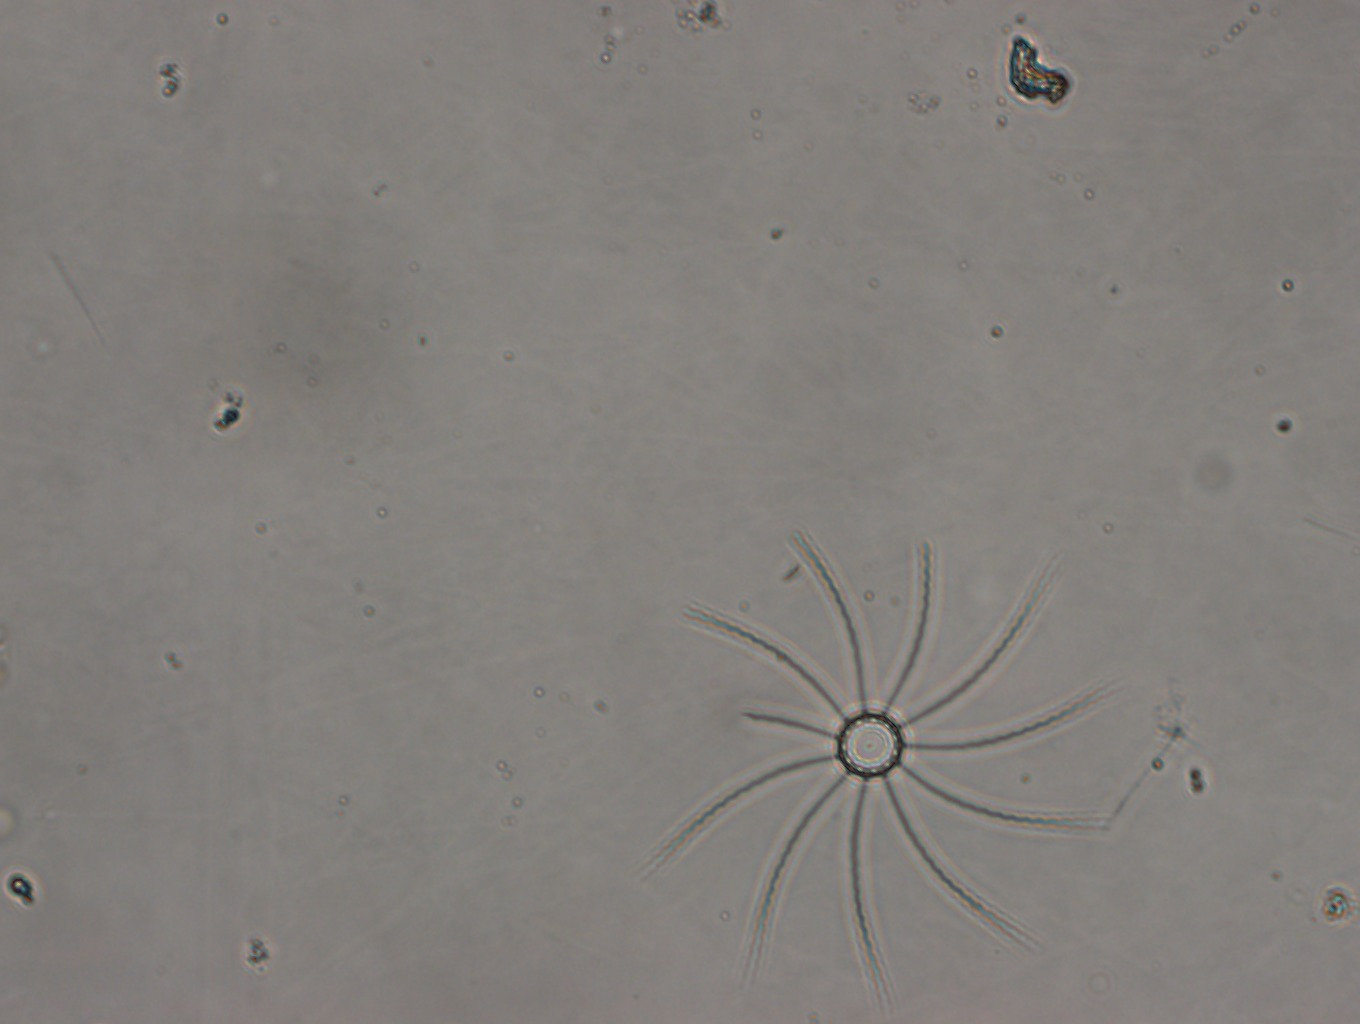bacteriastrum: (643, 524, 1126, 1002)
